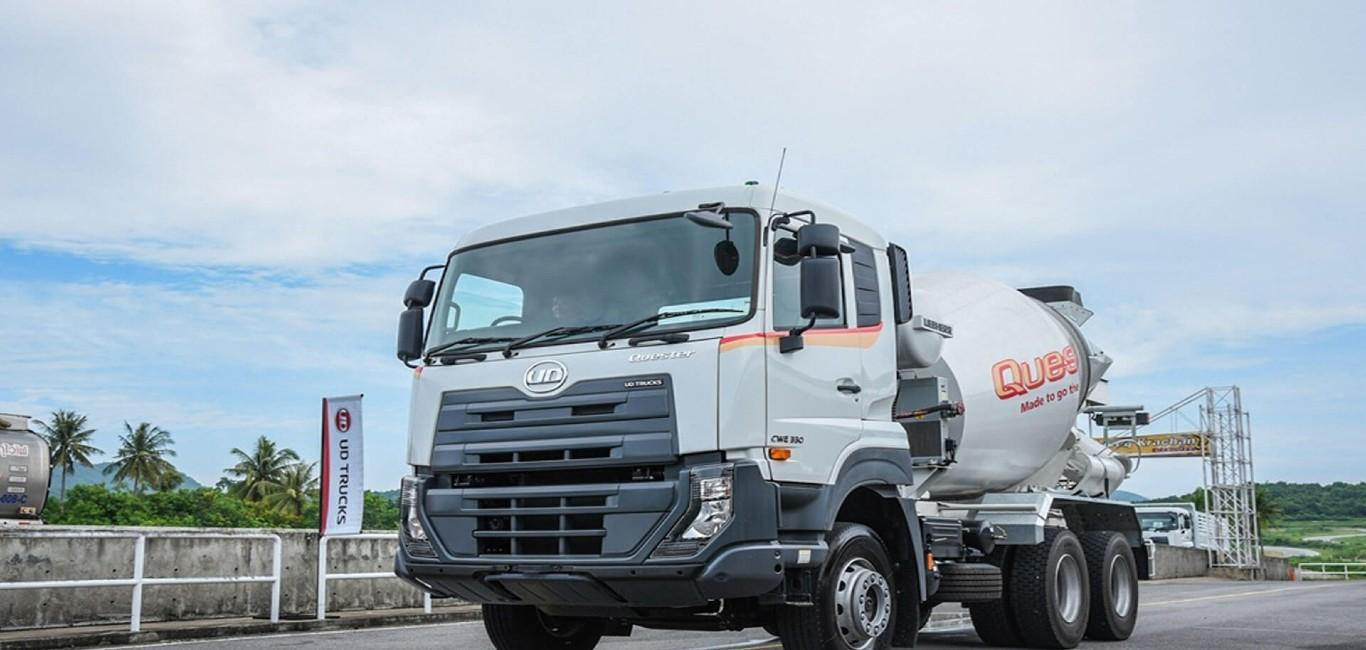truck: (392, 179, 1146, 650)
